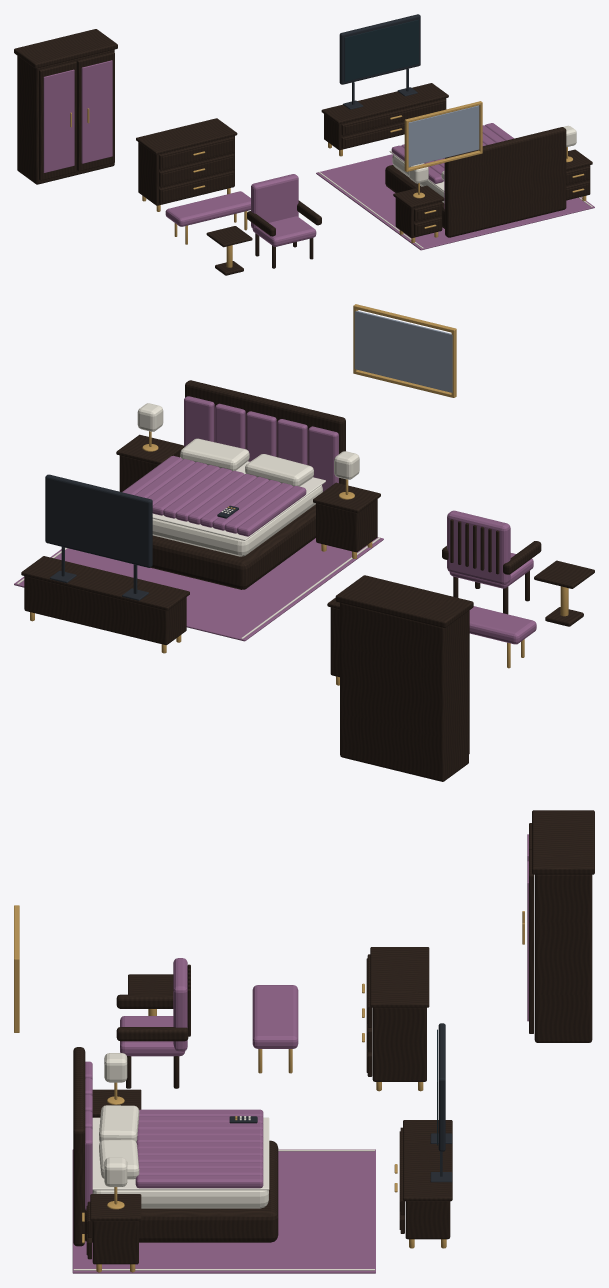
Rendered from room-14.glb.
3 views of the same model, one above another, from view 1: azimuth 30°, elevation 25°; view 2: azimuth 150°, elevation 25°; view 3: azimuth 270°, elevation 25° (orthographic). The views are drawn at different scales.
Parts seen in each view (by area): view 1: BED | headboard frame.003, RUG | bound wool.003, TV | SCREEN.003, ART | ECLIPSE PLACEHOLDER | canvas solid.003, WARDROBE | recessed door panel.006, WARDROBE | recessed door panel.007, WARDROBE | closed carcass.003, WARDROBE | crown.003, TV CONSOLE | overhanging top.003, CHAIR | shaped upholstered back.003, DRESSER | overhanging top.003, LUGGAGE | upholstered bench.003 (+21 smaller); view 2: WARDROBE | closed carcass.003, RUG | bound wool.003, TV | solid chassis.003, ART | ECLIPSE PLACEHOLDER | canvas solid.003, TV CONSOLE | closed carcass.003, BED | upholstered platform.003, WARDROBE | crown.003, TV CONSOLE | overhanging top.003, BED | headboard frame.003, CHAIR | shaped upholstered back.003, BED | sprung mattress.003, BEDSIDE R | closed carcass.003 (+27 smaller); view 3: RUG | bound wool.003, WARDROBE | closed carcass.003, BED | upholstered platform.003, DRESSER | closed carcass.003, WARDROBE | crown.003, DRESSER | overhanging top.003, TV CONSOLE | overhanging top.003, LUGGAGE | upholstered bench.003, BED | sprung mattress.003, BED | headboard frame.003, BEDSIDE L | closed carcass.003, TV CONSOLE | closed carcass.003 (+26 smaller).
Part boxes in pixels (x1,y1,x2,y2): BED | headboard frame.003: (445, 127, 566, 237); RUG | bound wool.003: (316, 154, 594, 250); TV | SCREEN.003: (344, 19, 418, 81); ART | ECLIPSE PLACEHOLDER | canvas solid.003: (408, 105, 479, 166); WARDROBE | recessed door panel.006: (81, 60, 112, 163); WARDROBE | recessed door panel.007: (43, 69, 74, 172); WARDROBE | closed carcass.003: (17, 49, 114, 184); WARDROBE | crown.003: (14, 29, 117, 68); TV CONSOLE | overhanging top.003: (321, 83, 448, 124); CHAIR | shaped upholstered back.003: (251, 174, 298, 229); DRESSER | overhanging top.003: (136, 118, 237, 154); LUGGAGE | upholstered bench.003: (165, 191, 250, 226); WARDROBE | closed carcass.003: (340, 603, 468, 781); RUG | bound wool.003: (14, 537, 383, 641); TV | solid chassis.003: (45, 474, 152, 567); ART | ECLIPSE PLACEHOLDER | canvas solid.003: (354, 310, 452, 392); TV CONSOLE | closed carcass.003: (24, 576, 186, 645); BED | upholstered platform.003: (151, 504, 315, 589); WARDROBE | crown.003: (335, 575, 473, 627); TV CONSOLE | overhanging top.003: (21, 556, 189, 610); BED | headboard frame.003: (185, 380, 345, 484); CHAIR | shaped upholstered back.003: (447, 510, 510, 584); BED | sprung mattress.003: (152, 485, 322, 556); BEDSIDE R | closed carcass.003: (316, 499, 377, 552); RUG | bound wool.003: (72, 1149, 375, 1273); WARDROBE | closed carcass.003: (534, 874, 592, 1042); BED | upholstered platform.003: (85, 1140, 278, 1242); DRESSER | closed carcass.003: (372, 1007, 426, 1081); WARDROBE | crown.003: (532, 810, 594, 874); DRESSER | overhanging top.003: (370, 947, 429, 1007); TV CONSOLE | overhanging top.003: (403, 1120, 452, 1201); LUGGAGE | upholstered bench.003: (252, 985, 298, 1048); BED | sprung mattress.003: (92, 1190, 268, 1208); BED | headboard frame.003: (73, 1047, 85, 1246); BEDSIDE L | closed carcass.003: (92, 1221, 138, 1264); TV CONSOLE | closed carcass.003: (405, 1201, 450, 1239).
Size of the model in its own units: 8.48 by 3.07 by 7.28.
8 materials, 1 textured.
